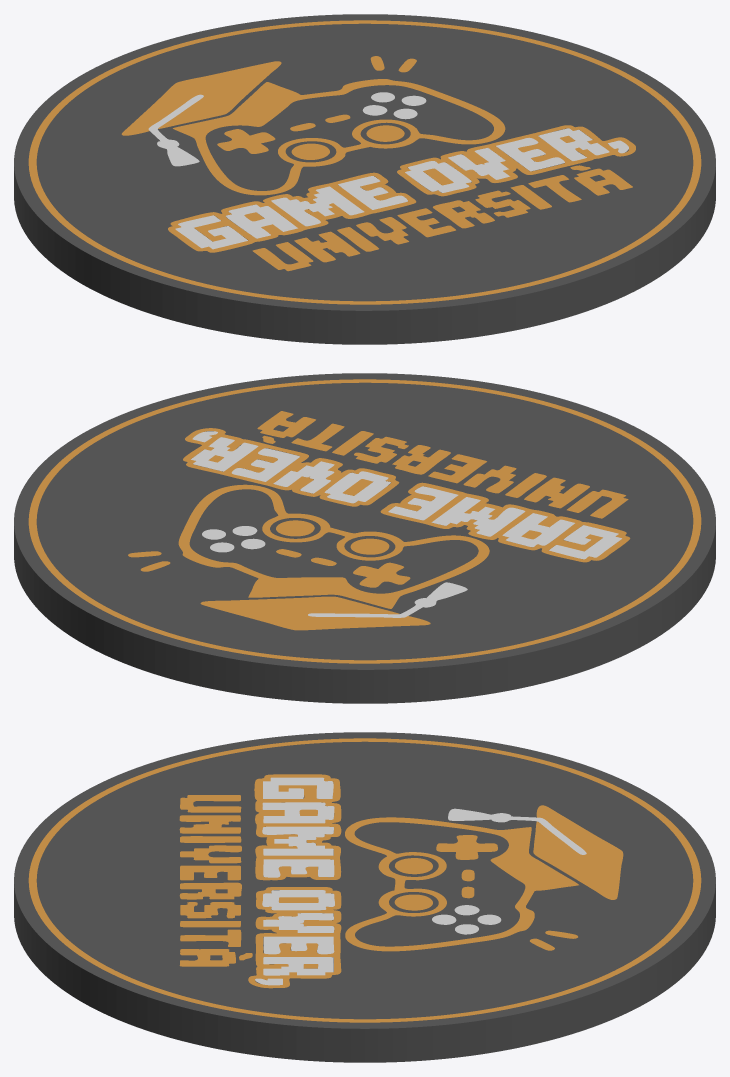
Rendered from sottobicchiere-game-over-universita.glb.
The picture shows the model from 3 angles, top to bottom: view 1: azimuth 30°, elevation 25°; view 2: azimuth 150°, elevation 25°; view 3: azimuth 270°, elevation 25°; orthographic projection.
Visible parts, largest first — view 1: coaster_base, coaster_ink, coaster_accent; view 2: coaster_base, coaster_ink, coaster_accent; view 3: coaster_base, coaster_ink, coaster_accent.
Boxes of the visible parts, x1,y1,x2,y2 form: coaster_base: (14,14,715,344); coaster_ink: (28,20,701,304); coaster_accent: (148,92,628,249); coaster_base: (14,373,715,703); coaster_ink: (28,379,701,663); coaster_accent: (191,431,621,617); coaster_base: (14,732,715,1062); coaster_ink: (28,738,701,1022); coaster_accent: (255,777,586,985).
Size of the model in its own units: 0.075 by 0.004 by 0.075.
